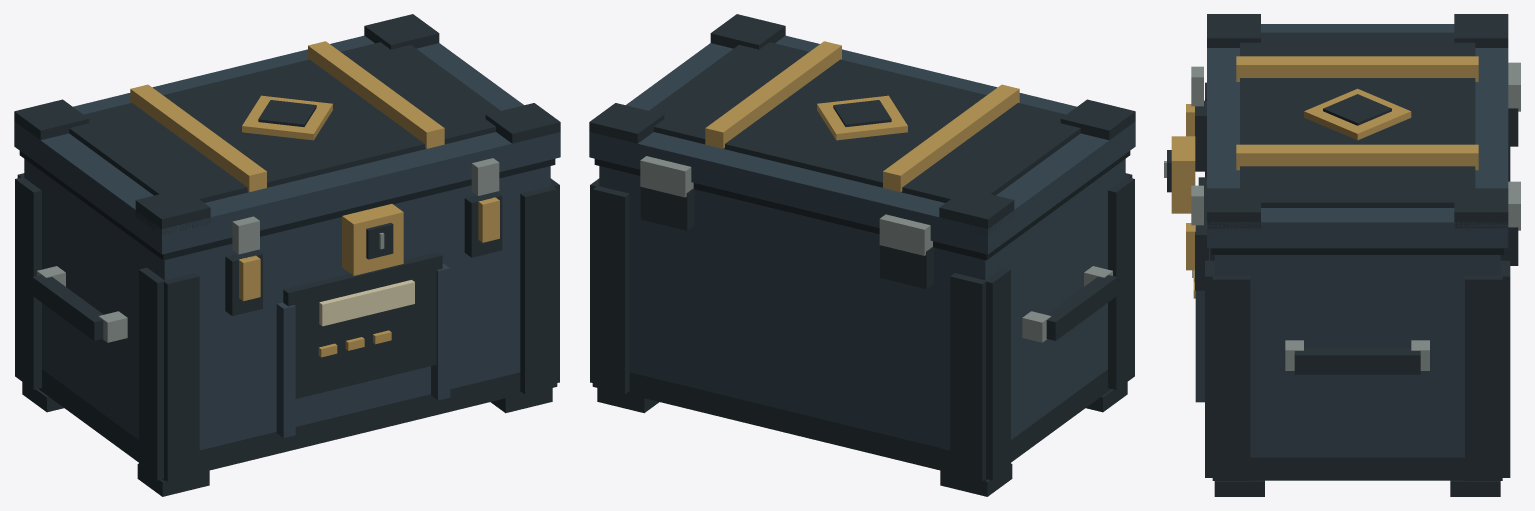
Rendered from FSA_CRATE_003_Advanced.glb.
3 views of the same model, side by side, from view 1: azimuth 30°, elevation 25°; view 2: azimuth 150°, elevation 25°; view 3: azimuth 270°, elevation 25° (orthographic).
Parts seen in each view (by area): view 1: FrontWall, TopInset, LidShell, SideWall_-1, FrontPanel, Base, CornerFront_1_1, CornerFront_-1_1, CornerSide_-1_-1, CornerSide_-1_1, TopRib_-0_124, TopRib_0_124 (+23 smaller); view 2: BackWall, TopInset, LidShell, SideWall_-1, Base, CornerFront_1_-1, CornerFront_-1_-1, CornerSide_-1_1, CornerSide_-1_-1, TopRib_-0_124, TopRib_0_124, LidSeal (+15 smaller); view 3: SideWall_1, TopInset, LidShell, CornerSide_1_1, CornerSide_1_-1, TopRib_0_124, TopRib_-0_124, Base, SideGrip_1, LidCorner_1_-1, LidCorner_1_1, LidSeal (+23 smaller).
Boxes of the visible parts, x1=… form: FrontWall: x1=155, y1=166, x2=550, y2=450; TopInset: x1=69, y1=42, x2=500, y2=202; LidShell: x1=14, y1=35, x2=560, y2=254; SideWall_-1: x1=33, y1=165, x2=157, y2=439; FrontPanel: x1=283, y1=252, x2=442, y2=398; Base: x1=38, y1=369, x2=523, y2=481; CornerFront_1_1: x1=520, y1=185, x2=557, y2=394; CornerFront_-1_1: x1=161, y1=273, x2=199, y2=481; CornerSide_-1_-1: x1=15, y1=177, x2=41, y2=389; CornerSide_-1_1: x1=139, y1=267, x2=163, y2=480; TopRib_-0_124: x1=130, y1=84, x2=266, y2=192; TopRib_0_124: x1=308, y1=41, x2=444, y2=148; BackWall: x1=599, y1=166, x2=994, y2=450; TopInset: x1=649, y1=42, x2=1080, y2=202; LidShell: x1=589, y1=35, x2=1135, y2=254; SideWall_-1: x1=994, y1=164, x2=1118, y2=439; Base: x1=626, y1=369, x2=1111, y2=481; CornerFront_1_-1: x1=592, y1=185, x2=629, y2=394; CornerFront_-1_-1: x1=950, y1=273, x2=988, y2=481; CornerSide_-1_1: x1=1108, y1=177, x2=1134, y2=389; CornerSide_-1_-1: x1=986, y1=267, x2=1010, y2=480; TopRib_-0_124: x1=883, y1=84, x2=1019, y2=192; TopRib_0_124: x1=705, y1=41, x2=841, y2=148; LidSeal: x1=594, y1=151, x2=1130, y2=260; SideWall_1: x1=1233, y1=255, x2=1482, y2=457; TopInset: x1=1240, y1=32, x2=1475, y2=207; LidShell: x1=1207, y1=24, x2=1508, y2=248; CornerSide_1_1: x1=1212, y1=275, x2=1250, y2=480; CornerSide_1_-1: x1=1465, y1=275, x2=1502, y2=480; TopRib_0_124: x1=1236, y1=144, x2=1478, y2=170; TopRib_-0_124: x1=1236, y1=56, x2=1478, y2=81; Base: x1=1250, y1=457, x2=1464, y2=480; SideGrip_1: x1=1294, y1=348, x2=1420, y2=374; LidCorner_1_-1: x1=1454, y1=188, x2=1508, y2=228; LidCorner_1_1: x1=1207, y1=188, x2=1260, y2=229; LidSeal: x1=1211, y1=248, x2=1503, y2=254.
Bounding box in the file's own units: 0.627 × 0.387 × 0.424.
